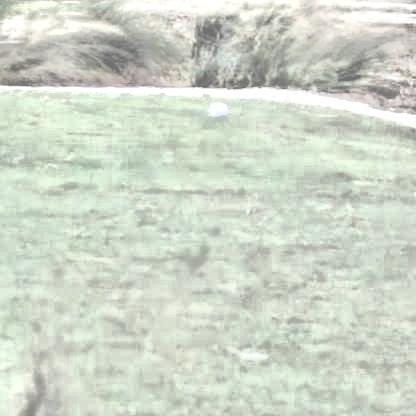golfball: (207, 99, 227, 119)
